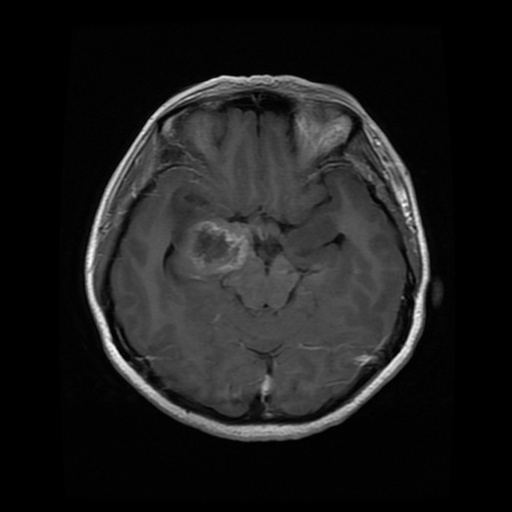glioma: (167, 221, 251, 284)
